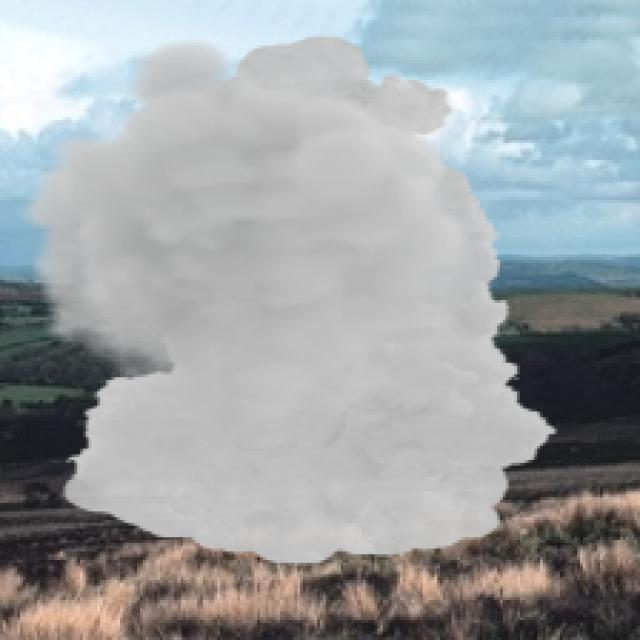smoke: (20, 34, 560, 566)
